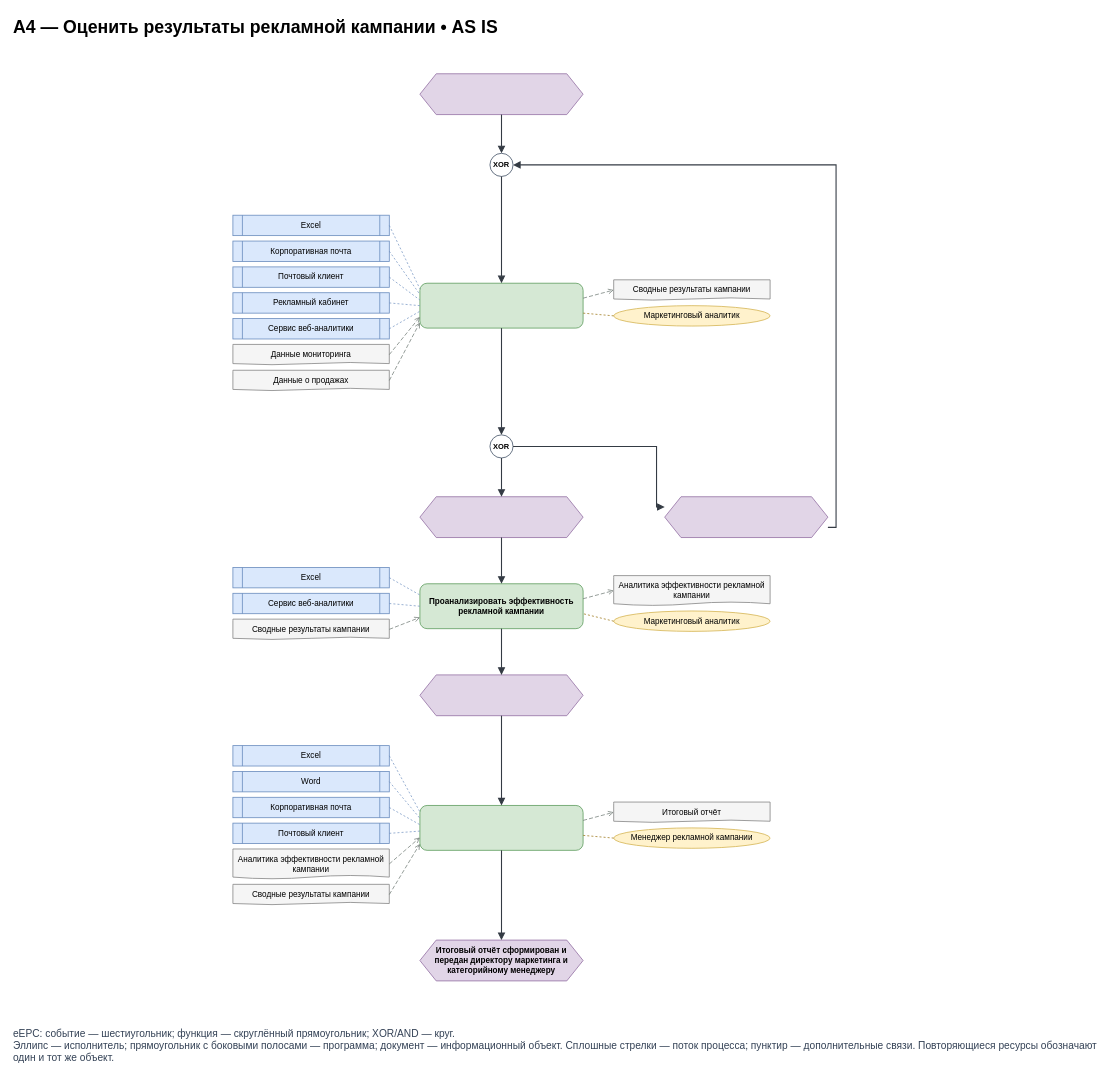
This 1111x1082 diagram has some shape labels left out. The box of each missing label's shape, as (x1, y1, x2, y2) in pixels:
Аналитика эффективности рекламной кампании подготовлена: (419, 674, 583, 716)
Выявлены пропуски или несопоставимые показатели: (664, 496, 828, 538)
Период кампании завершён; данные мониторинга подготовлены: (419, 73, 583, 115)
Сводные результаты кампании сформированы и проверены: (419, 496, 583, 538)
Собрать результаты рекламной кампании: (419, 282, 583, 328)
Сформировать итоговый отчёт: (419, 805, 583, 850)
